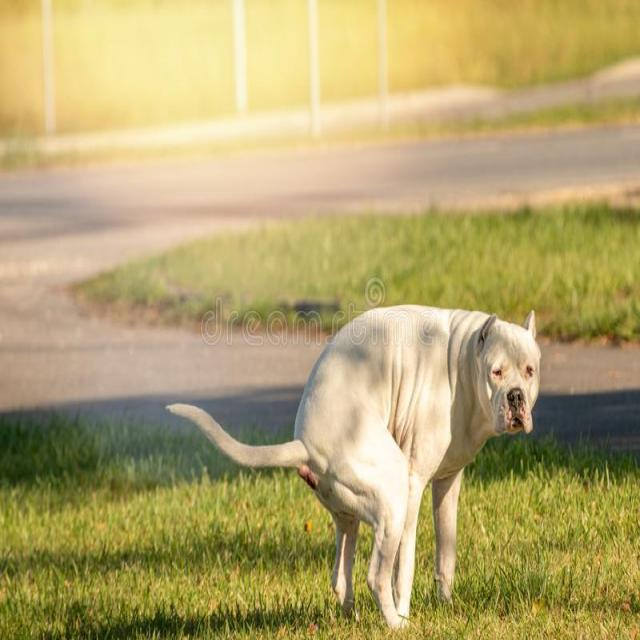Dogpoop: (170, 292, 541, 626)
